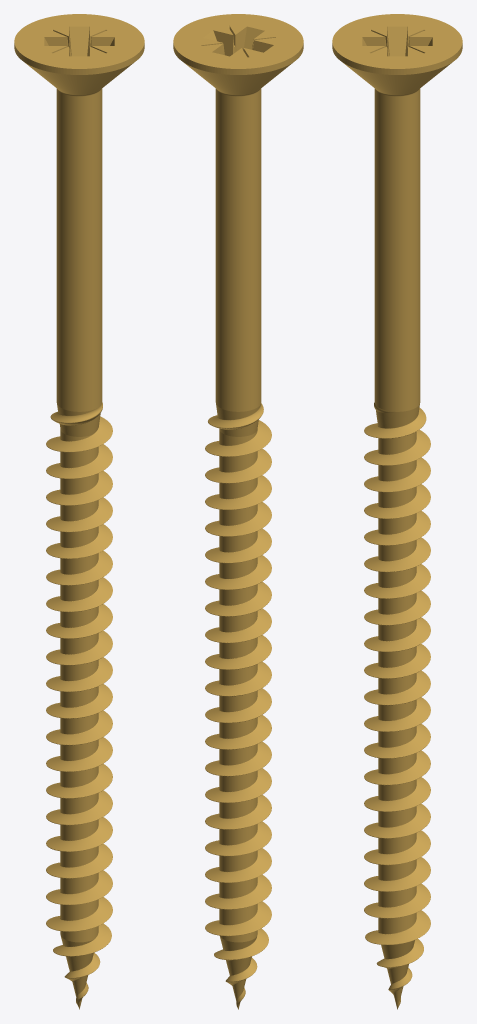
Rendered from model_full.glb.
3 views of the same model, side by side, from view 1: azimuth 90°, elevation 25°; view 2: azimuth 150°, elevation 25°; view 3: azimuth 270°, elevation 25° (orthographic).
Parts seen in each view (by area): view 1: geometry_0; view 2: geometry_0; view 3: geometry_0.
Boxes of the visible parts, box(x1,y1,x2,y2) form: geometry_0: box(14, 14, 144, 1009); geometry_0: box(173, 14, 303, 1009); geometry_0: box(332, 14, 462, 1009).
Bounding box in the file's own units: 0.00975 × 0.08 × 0.00975.
